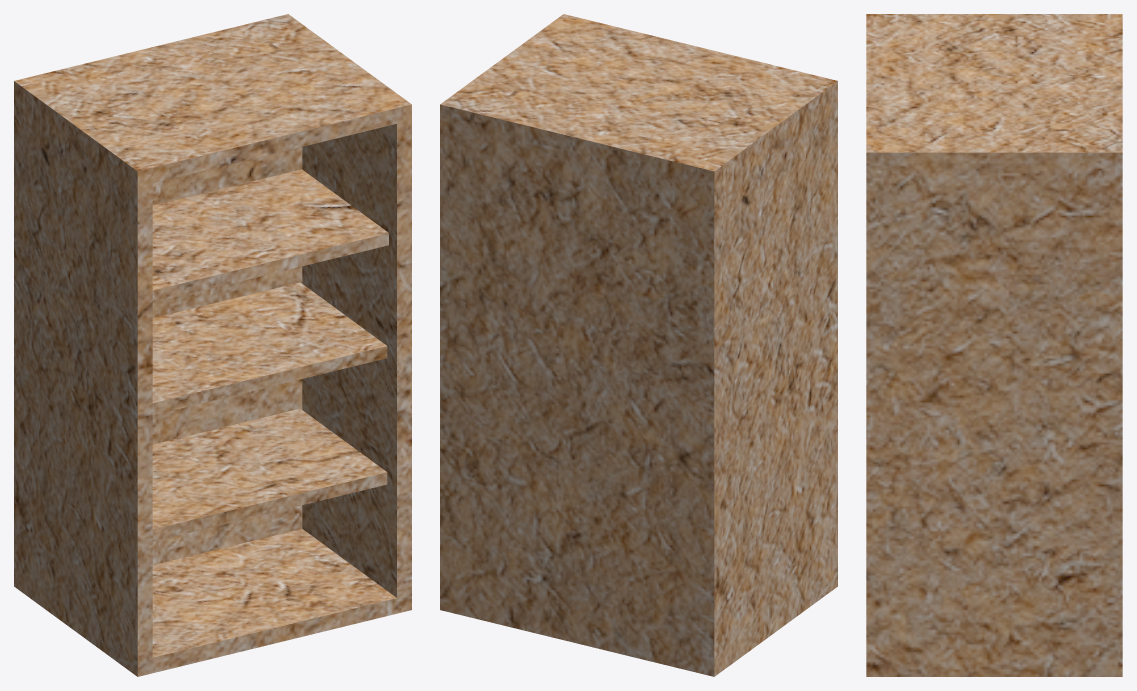
File: JBayer_Shelf.fbx
The picture shows the model from 3 angles, left to right: view 1: azimuth 30°, elevation 25°; view 2: azimuth 150°, elevation 25°; view 3: azimuth 270°, elevation 25°; orthographic projection. The views are drawn at different scales.
Parts seen in each view (by area): view 1: Shelf; view 2: Shelf; view 3: Shelf.
Part boxes in pixels (x1=…): Shelf: x1=14, y1=14, x2=411, y2=676; Shelf: x1=440, y1=14, x2=837, y2=676; Shelf: x1=866, y1=14, x2=1122, y2=676.
Size of the model in its own units: 147 by 189 by 332.
Materials: 1 (1 with a texture image).
